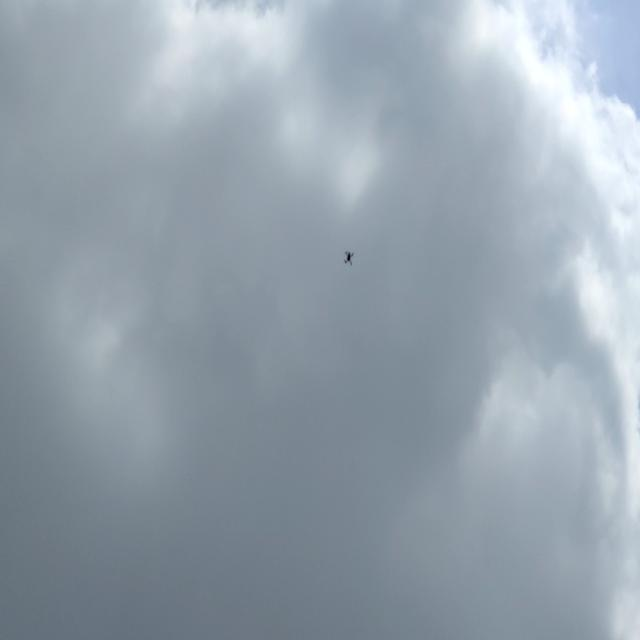drone: (340, 243, 357, 270)
